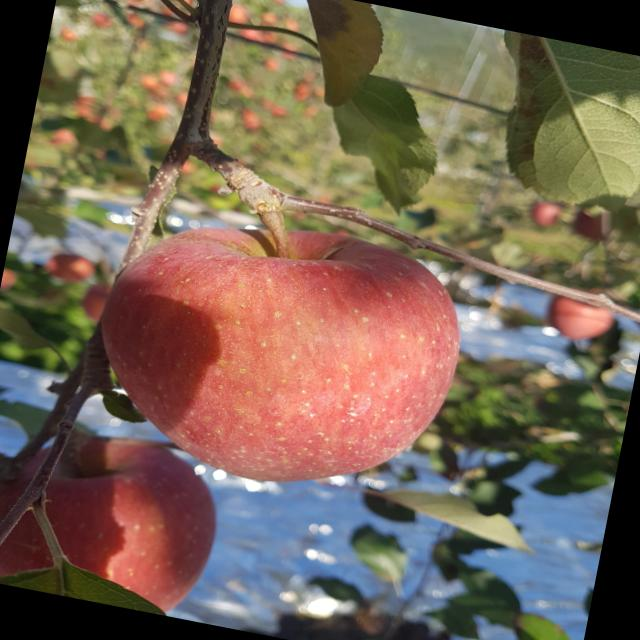fresh: (73, 179, 491, 527)
